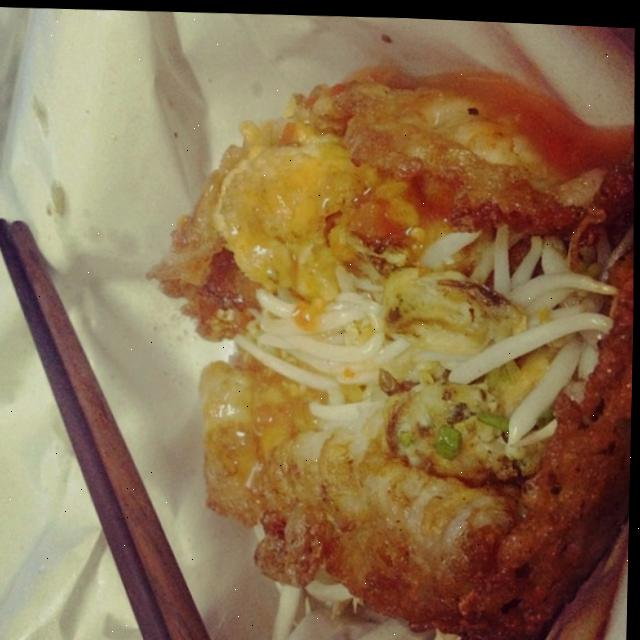炸货点心: (28, 17, 635, 640)
蛋糕甜品: (28, 17, 635, 640)
